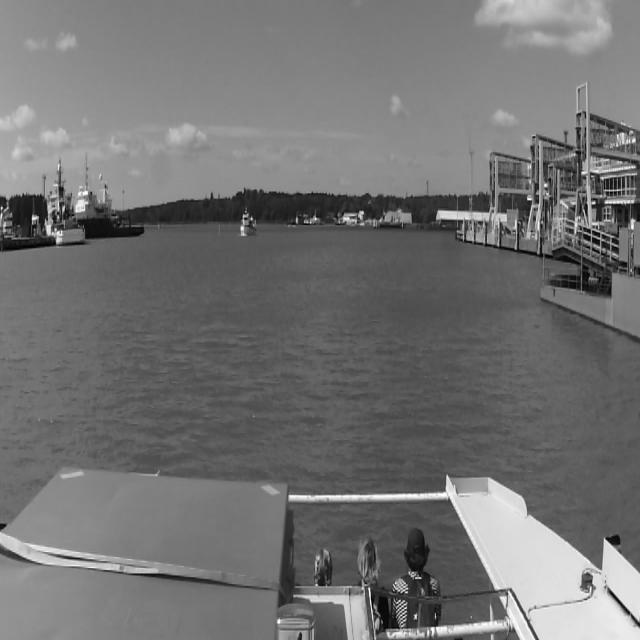ship: (46, 183, 85, 246), (239, 208, 257, 234), (306, 212, 322, 225)
